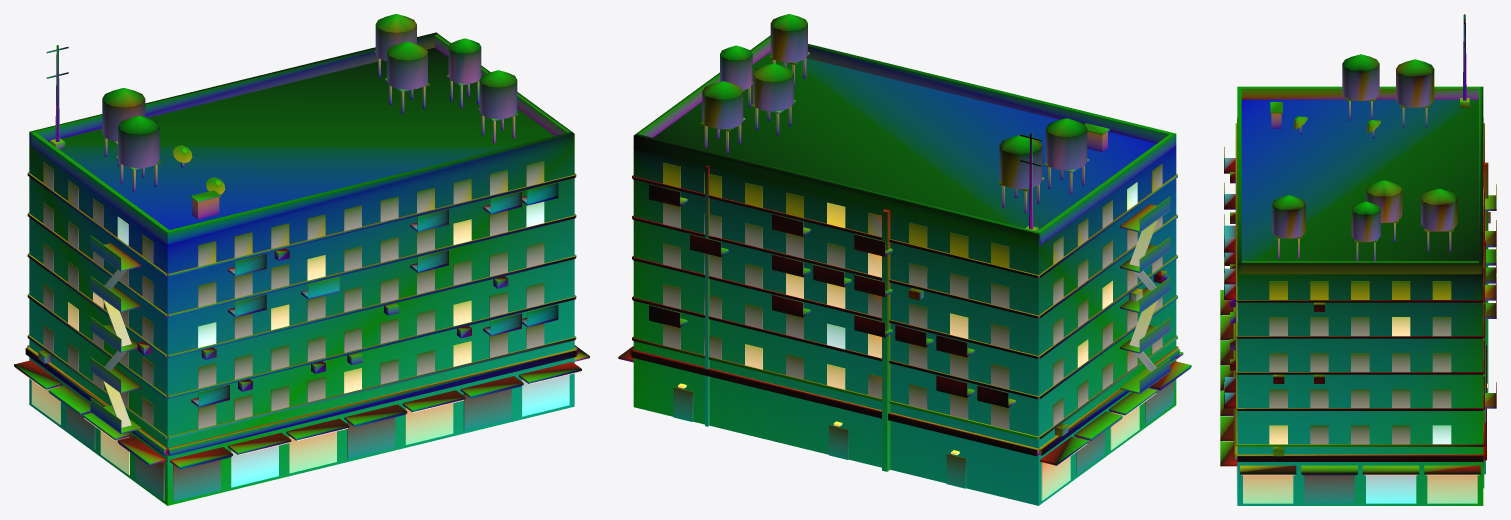
File: Block_Housing.fbx
The picture shows the model from 3 angles, left to right: view 1: azimuth 30°, elevation 25°; view 2: azimuth 150°, elevation 25°; view 3: azimuth 270°, elevation 25°; orthographic projection. The views are drawn at different scales.
Visible parts, largest first — view 1: Block_Housing_LOD0; view 2: Block_Housing_LOD0; view 3: Block_Housing_LOD0.
Boxes of the visible parts, x1,y1,x2,y2 form: Block_Housing_LOD0: [14, 14, 589, 505]; Block_Housing_LOD0: [618, 14, 1191, 505]; Block_Housing_LOD0: [1220, 14, 1496, 505].
Size of what is drawn, in the model's own units: 37.1 by 28.94 by 22.5.
